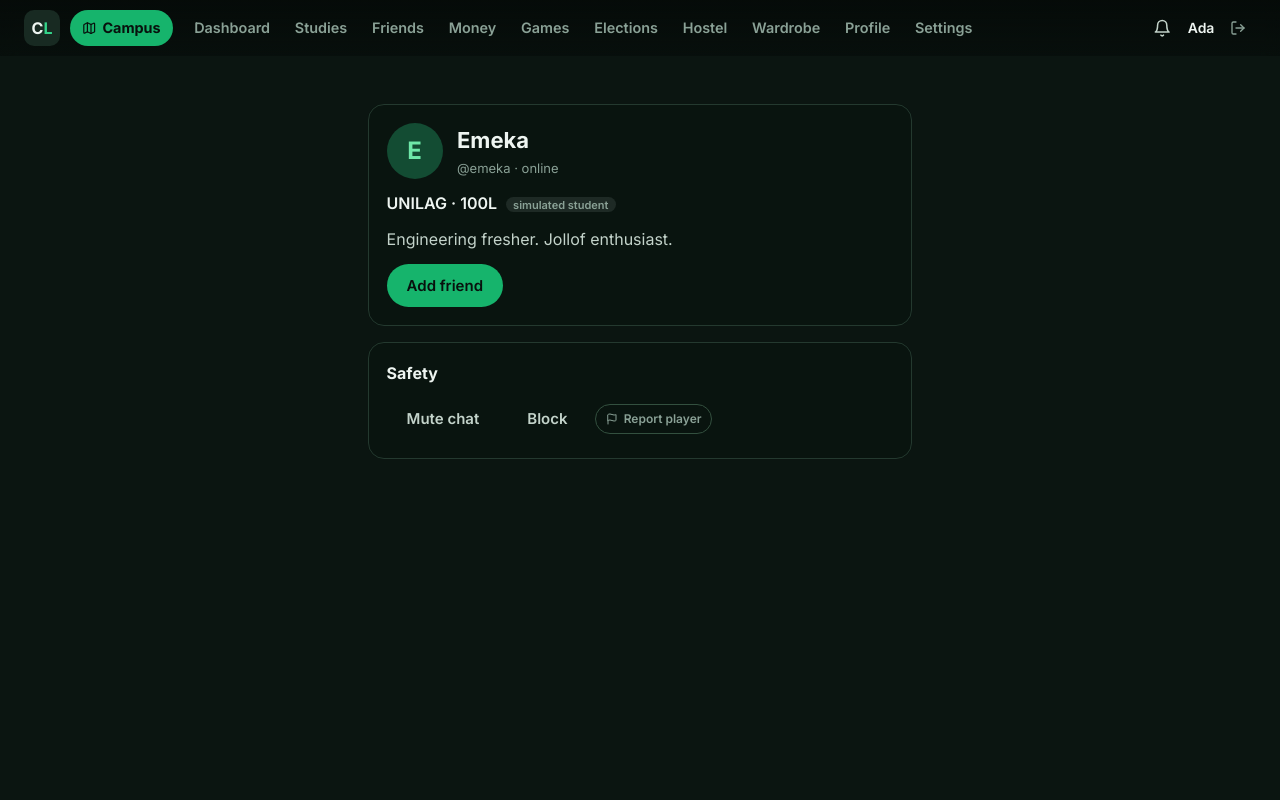
Test: player profile › shows a public profile with friend, message, block and report actions
Check: the heading "Emeka" is shown, box [457,128,529,154]
Check: the text "Engineering fresher. Jollof enthusiast." is shown, box [387,229,673,249]
Click the button "Report player". click: x=654, y=419
box: [596,404,712,434]
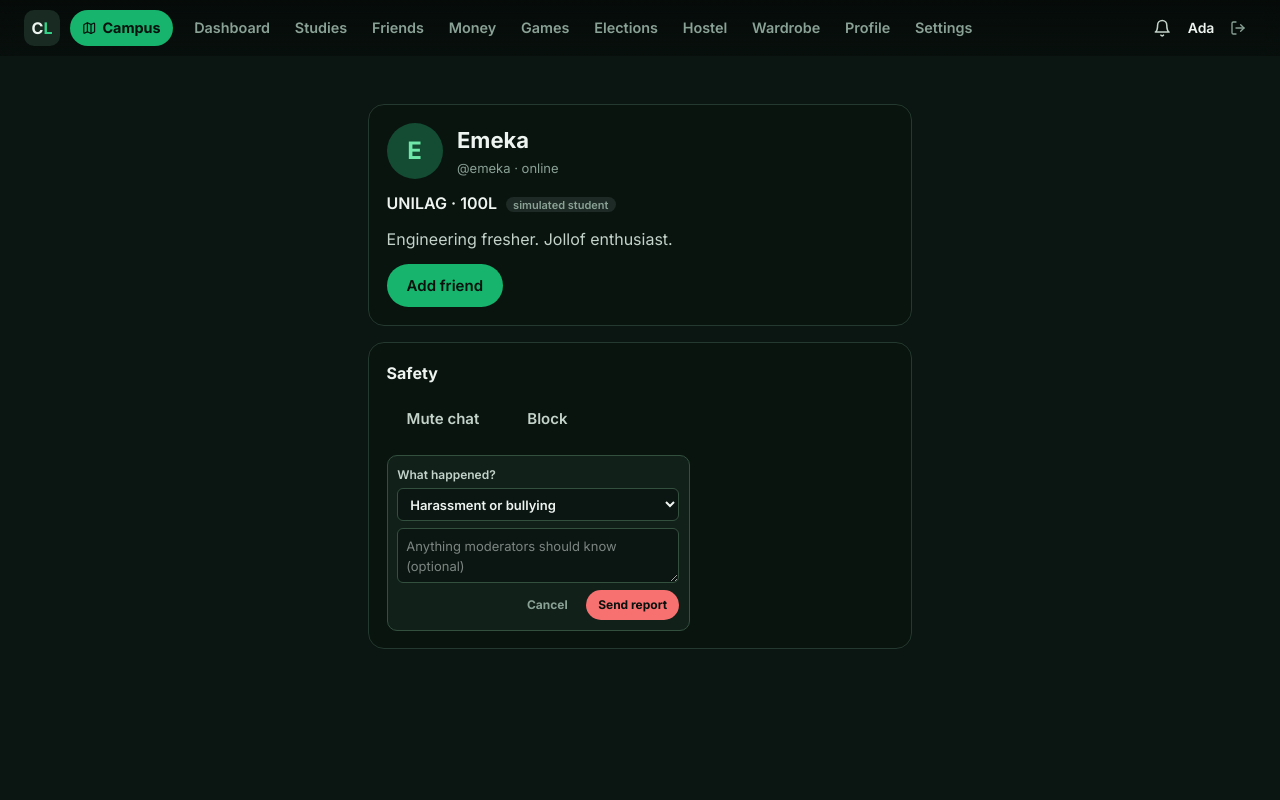
Check: the dropdown labelled "What happened?" is shown, box [397,488,679,521]
